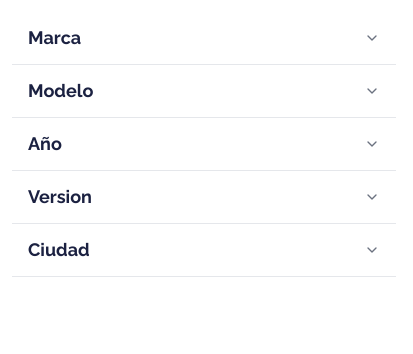
Test: FilterSelector Component › should display options for a filter category
Click the button "Marca": (55, 38) [12,12,396,64]
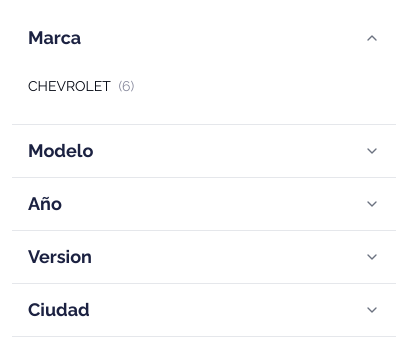
expect the button "CHEVROLET (6)" is shown: met, box [28,72,380,100]
expect the text "(6)" is shown: met, box [115,78,134,94]
